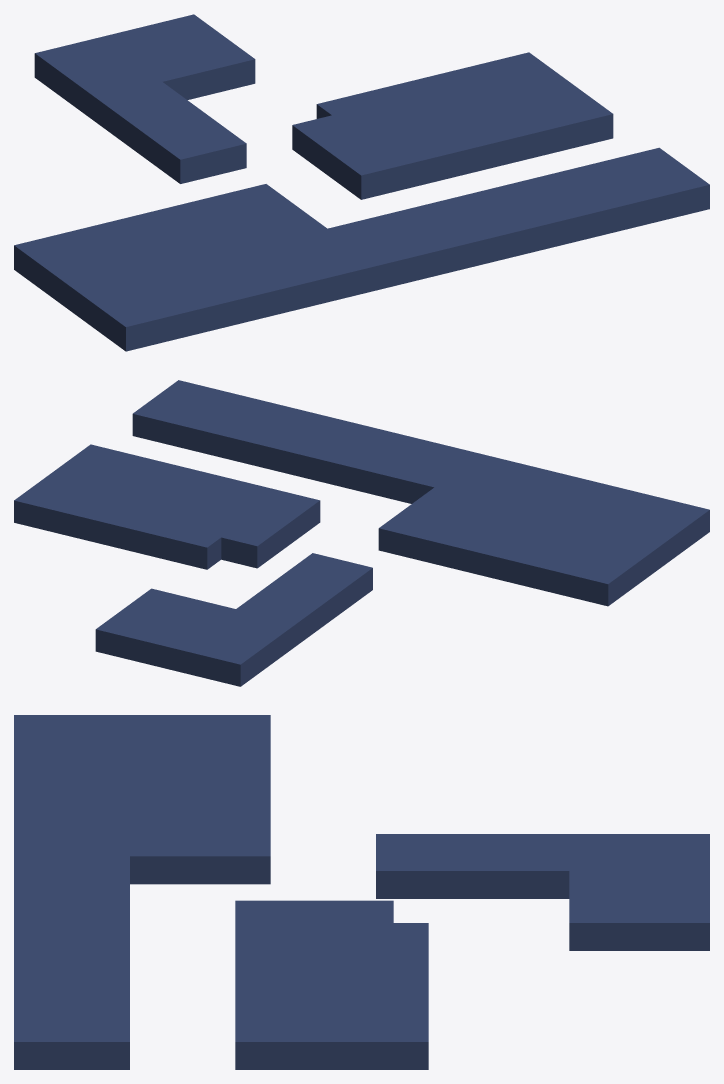
Rendered from Shop_Fronts.fbx.
3 renders of one model, top to bottom at view 1: azimuth 30°, elevation 25°; view 2: azimuth 150°, elevation 25°; view 3: azimuth 270°, elevation 25°, orthographic. The views are drawn at different scales.
Visible parts, largest first — view 1: pCube38, pCube36, pCube37; view 2: pCube38, pCube36, pCube37; view 3: pCube38, pCube36, pCube37.
Boxes of the visible parts, x1,y1,x2,y2 form: pCube38: [14, 147, 709, 351]; pCube36: [292, 52, 613, 199]; pCube37: [34, 14, 255, 183]; pCube38: [132, 380, 709, 606]; pCube36: [14, 444, 320, 569]; pCube37: [95, 553, 372, 686]; pCube38: [14, 715, 270, 1069]; pCube36: [235, 900, 428, 1069]; pCube37: [376, 834, 709, 950].
Size of the model in its own units: 495 by 19.78 by 446.
